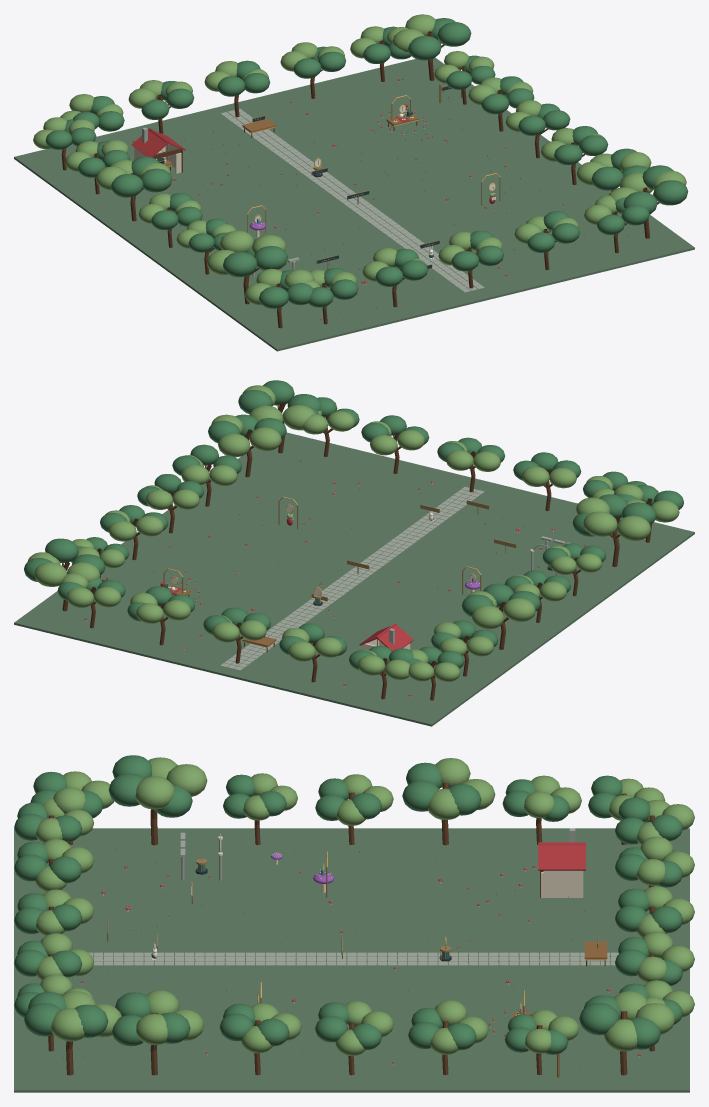
Rendered from garden.glb.
3 views of the same model, one above another, from view 1: azimuth 30°, elevation 25°; view 2: azimuth 150°, elevation 25°; view 3: azimuth 270°, elevation 25° (orthographic). The views are drawn at different scales.
Visible parts, largest first — view 1: garden ground, architecture_leaf, architecture_leaflight, architecture_stone, architecture_wood, architecture_red; view 2: garden ground, architecture_leaflight, architecture_leaf, architecture_stone, architecture_wood, architecture_red; view 3: garden ground, architecture_leaf, architecture_leaflight, architecture_stone, architecture_wood, architecture_red, architecture_ivory.
Boxes of the visible parts, bbox=[...] form: garden ground: bbox=[14, 57, 694, 351]; architecture_leaf: bbox=[45, 18, 688, 308]; architecture_leaflight: bbox=[33, 14, 686, 313]; architecture_stone: bbox=[142, 108, 484, 292]; architecture_wood: bbox=[61, 31, 659, 328]; architecture_red: bbox=[131, 79, 564, 320]; garden ground: bbox=[14, 432, 694, 726]; architecture_leaflight: bbox=[27, 385, 679, 685]; architecture_leaf: bbox=[24, 380, 683, 669]; architecture_stone: bbox=[220, 487, 570, 670]; architecture_wood: bbox=[62, 402, 651, 700]; architecture_red: bbox=[84, 481, 586, 696]; garden ground: bbox=[14, 828, 689, 1092]; architecture_leaf: bbox=[14, 755, 682, 1054]; architecture_leaflight: bbox=[35, 757, 694, 1070]; architecture_stone: bbox=[88, 828, 618, 965]; architecture_wood: bbox=[48, 783, 654, 1075]; architecture_red: bbox=[81, 842, 645, 1063]; architecture_ivory: bbox=[82, 836, 639, 1064].
Bounding box in the file's own units: 69.66 × 9.55 × 72.55.
